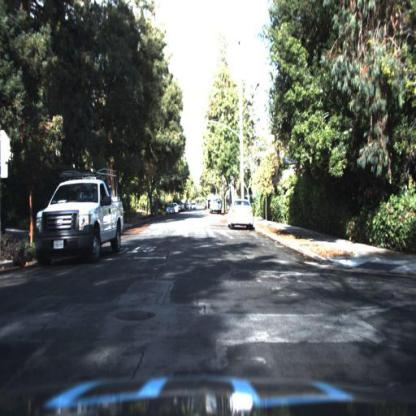car: (24, 151, 135, 277), (227, 193, 261, 236), (209, 190, 227, 219), (162, 200, 176, 217), (165, 204, 177, 219), (191, 200, 200, 211)
